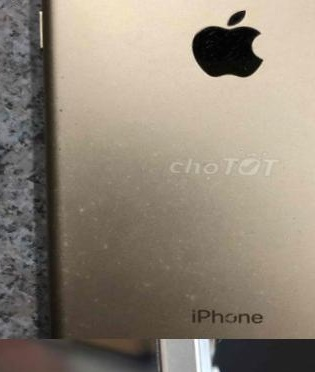scratch: (34, 173, 92, 337), (158, 245, 210, 309)
